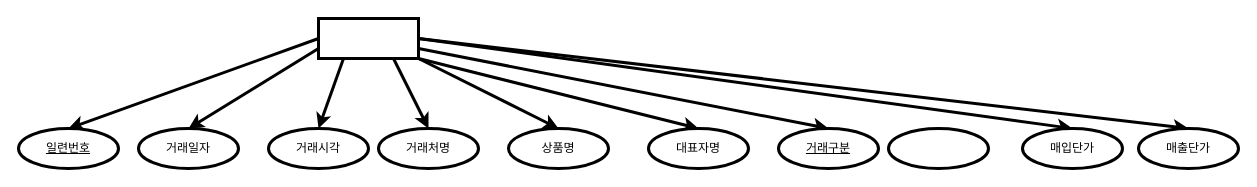
This 1257x187 diagram has some shape labels left out. Here are the shapes that lost their labels. From the top down, the centre of each, then its label:
At point (368, 38): "매입매출".
At point (938, 148): "수량".
